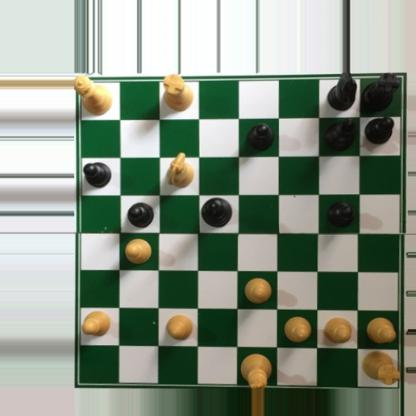black-bishop: (320, 115, 355, 151)
black-king: (200, 197, 234, 229)
black-knight: (327, 73, 359, 113)
black-pawn: (364, 114, 396, 144), (244, 122, 273, 152), (81, 161, 112, 189), (126, 201, 155, 228), (326, 201, 354, 228)
black-rook: (361, 73, 398, 114)
white-king: (239, 353, 272, 389)
white-knight: (164, 147, 194, 189)
white-pawn: (81, 305, 113, 338), (362, 316, 397, 346), (242, 277, 272, 305), (163, 313, 194, 340), (323, 317, 352, 345), (123, 238, 152, 265), (283, 316, 312, 343)
white-queen: (74, 73, 113, 115)
white-rook: (359, 348, 401, 385), (158, 73, 193, 114)
